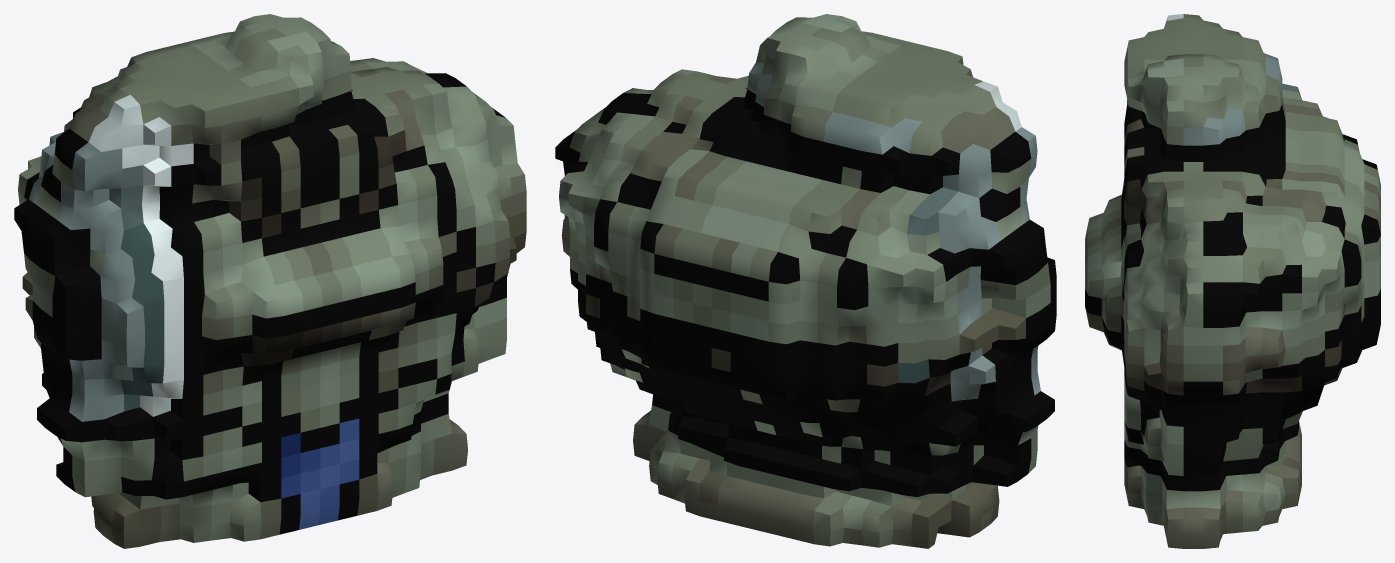
File: Icon_743_02.obj
3 views of the same model, side by side, from view 1: azimuth 30°, elevation 25°; view 2: azimuth 150°, elevation 25°; view 3: azimuth 270°, elevation 25° (orthographic). The views are drawn at different scales.
Size of the model in its own units: 2.4 by 2.3 by 1.5.
Materials: 1 (1 with a texture image).
